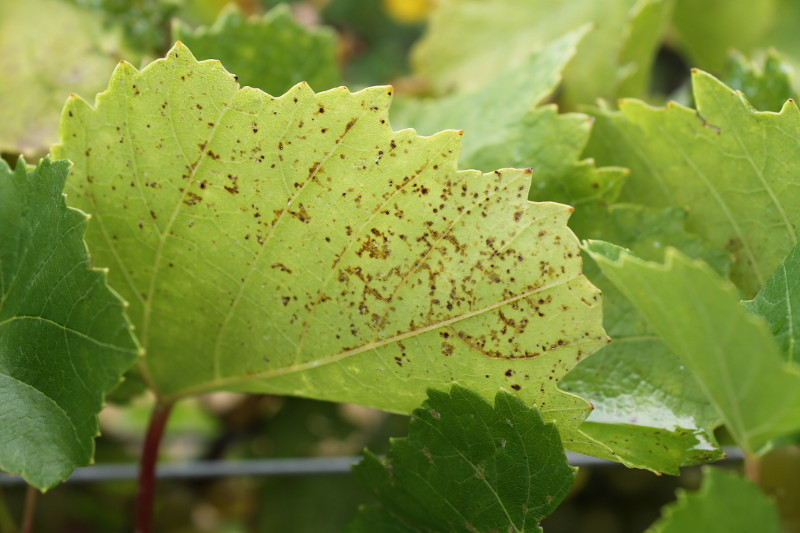downy: (159, 208, 574, 382), (69, 105, 400, 205), (114, 68, 391, 104), (403, 165, 529, 209)
